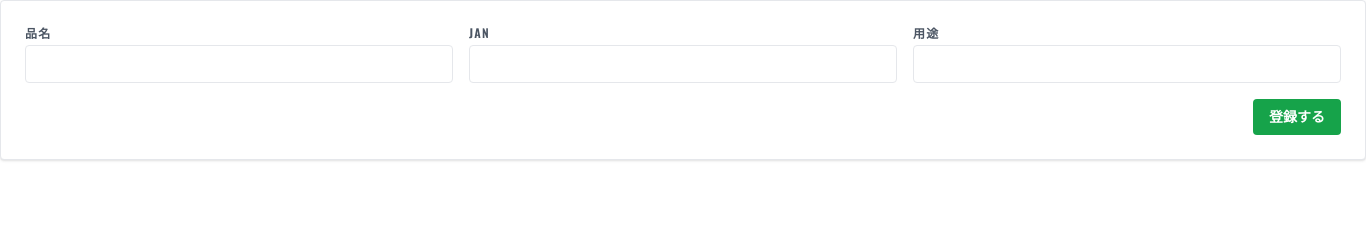
Test: ConsumableRegisterForm › APIがエラーを返すとエラーメッセージを表示する
This screenshot has width=1366, height=230.
In the field labelled "品名": (239,64) 25,45 -> 453,83, type "ガーゼ"
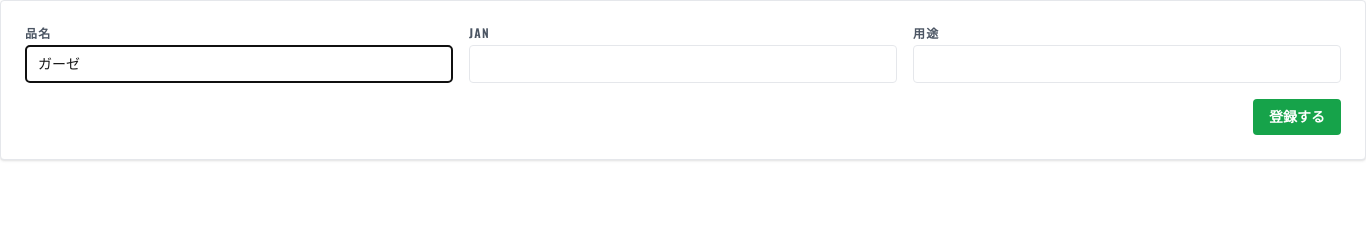
In the field labelled "用途": (1127,64) 913,45 -> 1341,83, type "止血"
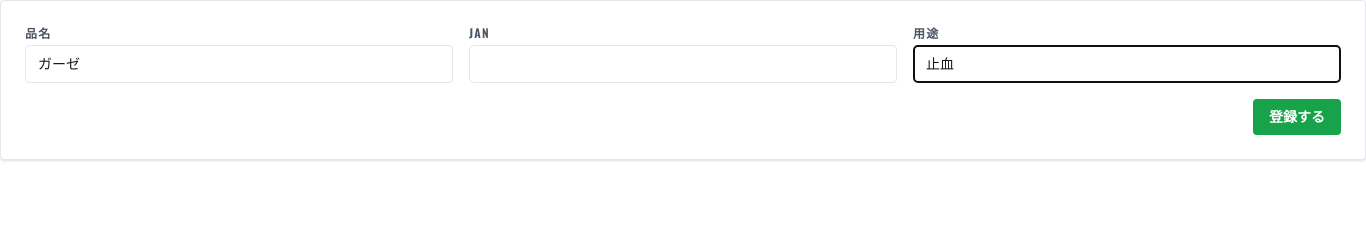
Click the button "登録する": (1297,117) 1253,99 -> 1341,135
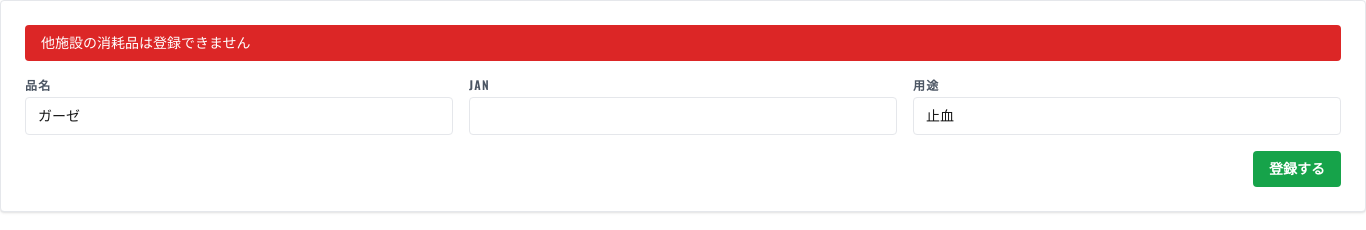
expect the text "他施設の消耗品は登録できません" is shown: met, box 25,25 -> 1341,61
